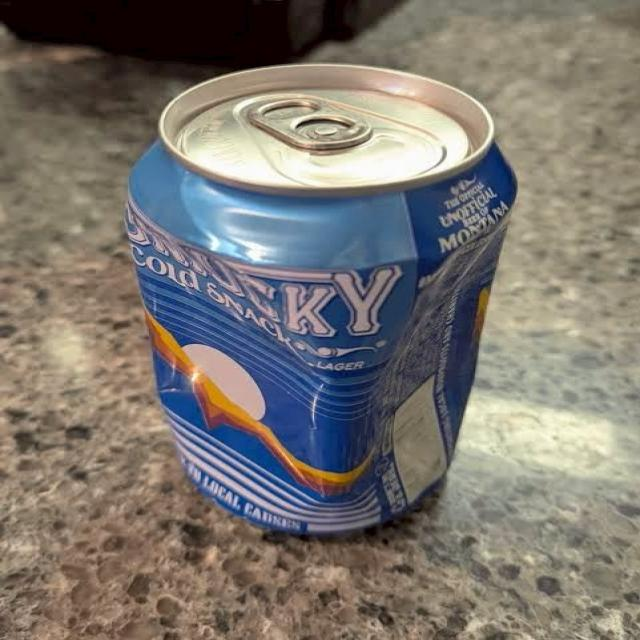can: (127, 49, 495, 548)
